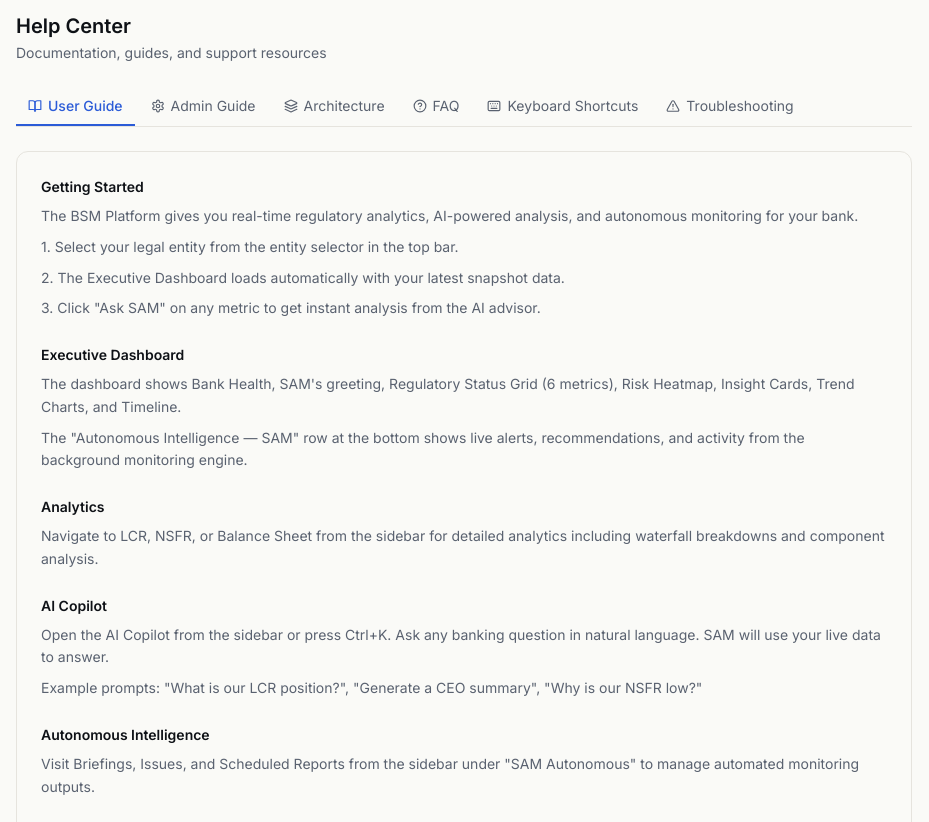
HelpCenterPage › clicking FAQ tab shows FAQ content
Click the button "FAQ". click: (436, 106)
box: top-left (401, 87), bottom-right (472, 126)
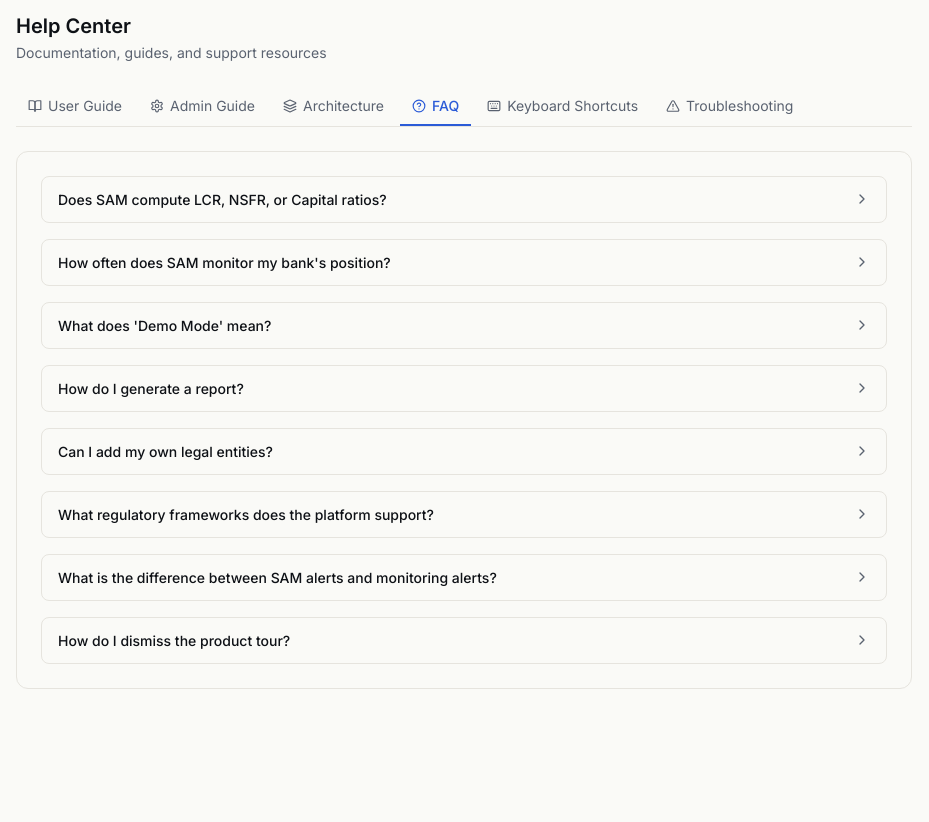
Check: the text "Does SAM compute LCR, NSFR, or Capital ratios?" is shown, box top-left (58, 189), bottom-right (387, 210)
